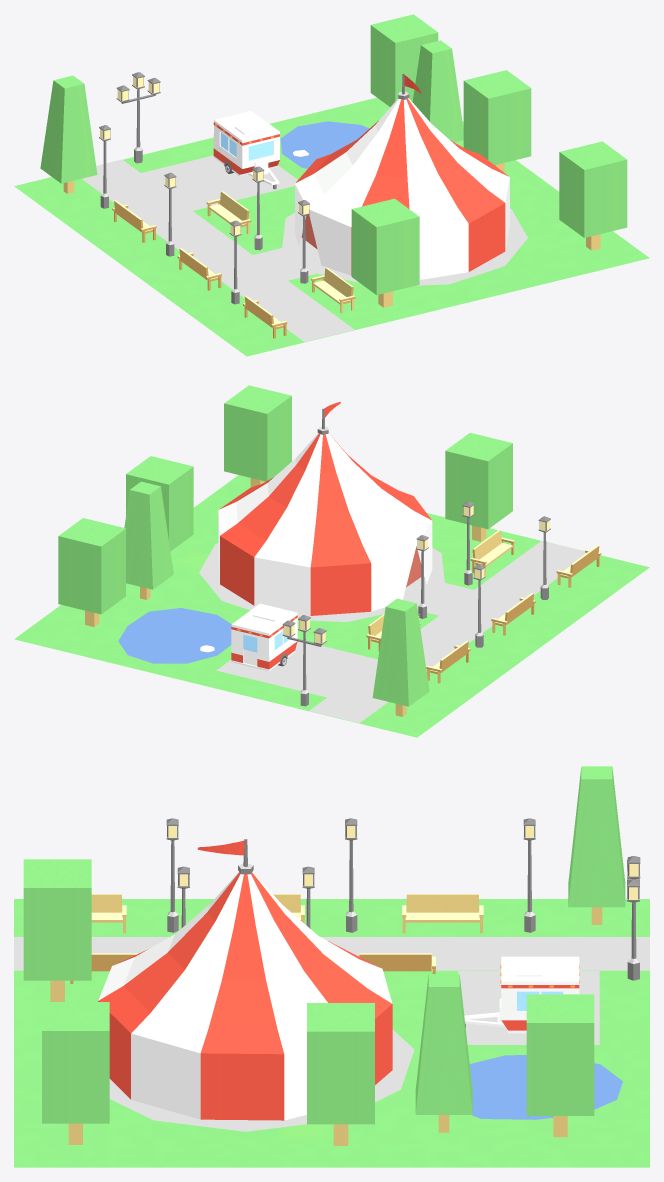
The model's file is park.006.glb.
3 renders of one model, top to bottom at view 1: azimuth 30°, elevation 25°; view 2: azimuth 150°, elevation 25°; view 3: azimuth 270°, elevation 25°, orthographic. The views are drawn at different scales.
Visible parts, largest first — view 1: park.006(Clone); view 2: park.006(Clone); view 3: park.006(Clone).
Boxes of the visible parts, <box> form: park.006(Clone): <box>14,14,649,356</box>; park.006(Clone): <box>14,385,649,737</box>; park.006(Clone): <box>14,766,649,1167</box>.
Size of the model in its own units: 16 by 6.22 by 16.
Materials: 1 (1 with a texture image).
